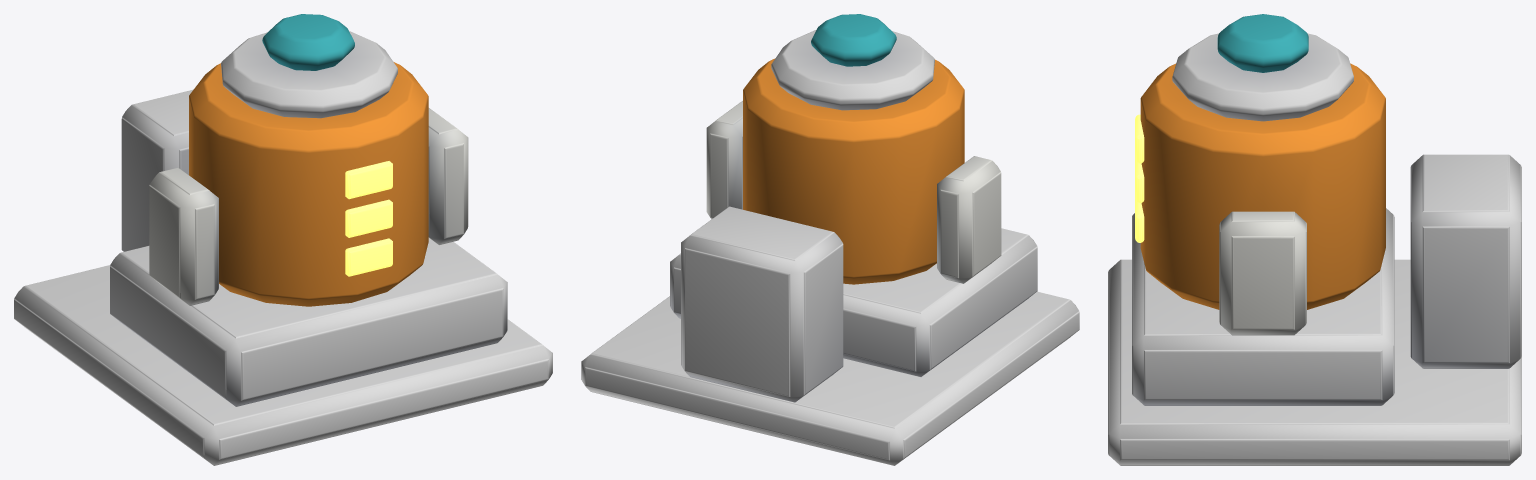
The model's file is R4X_Battery.fbx.
The picture shows the model from 3 angles, left to right: view 1: azimuth 30°, elevation 25°; view 2: azimuth 150°, elevation 25°; view 3: azimuth 270°, elevation 25°; orthographic projection. The views are drawn at different scales.
Visible parts, largest first — view 1: R4X_Battery_Body, R4X_Battery_Cap; view 2: R4X_Battery_Body, R4X_Battery_Cap; view 3: R4X_Battery_Body, R4X_Battery_Cap.
Part boxes in pixels (bbox=[...]): R4X_Battery_Body: bbox=[14, 31, 552, 465]; R4X_Battery_Cap: bbox=[262, 14, 354, 70]; R4X_Battery_Body: bbox=[581, 30, 1079, 465]; R4X_Battery_Cap: bbox=[811, 14, 896, 66]; R4X_Battery_Body: bbox=[1108, 33, 1521, 465]; R4X_Battery_Cap: bbox=[1217, 14, 1308, 72].
Size of the model in its own units: 0.52 by 0.495 by 0.52.
